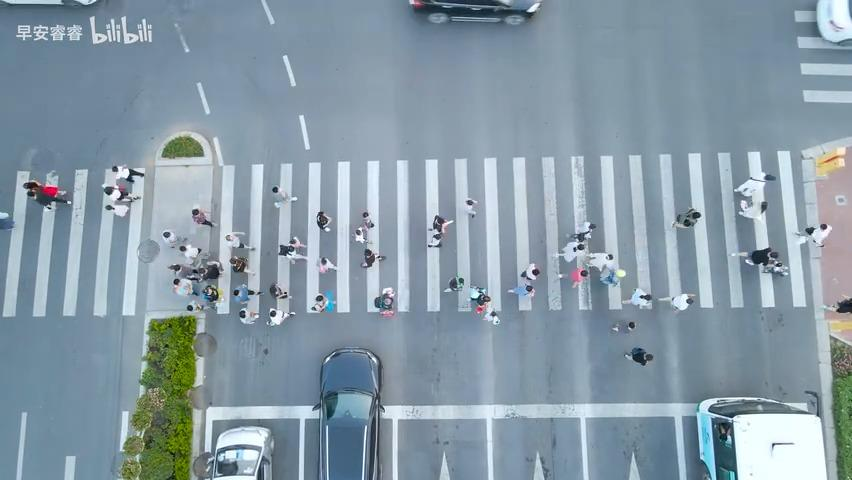Civilian: (733, 172, 776, 224), (22, 180, 71, 210), (469, 285, 500, 328), (729, 246, 780, 272), (96, 188, 131, 223), (593, 251, 623, 290), (733, 172, 775, 198), (272, 233, 309, 262), (793, 223, 832, 247), (557, 237, 588, 266), (427, 214, 453, 247), (352, 212, 377, 244), (737, 199, 768, 224), (234, 306, 261, 334), (606, 316, 641, 337), (168, 276, 196, 300), (103, 184, 140, 202), (671, 207, 701, 228), (374, 286, 395, 316), (621, 287, 651, 308), (181, 297, 206, 322), (200, 281, 227, 304), (271, 185, 297, 208), (111, 164, 144, 182), (164, 258, 190, 280), (624, 346, 653, 365), (266, 307, 294, 326), (197, 259, 224, 278), (225, 232, 255, 249), (191, 207, 216, 227), (360, 248, 385, 268), (228, 285, 254, 304), (821, 297, 851, 313), (227, 256, 252, 275), (162, 229, 187, 248), (575, 220, 596, 242), (670, 293, 695, 311), (507, 283, 535, 297), (519, 262, 539, 280), (316, 256, 337, 273), (570, 267, 587, 288), (315, 210, 331, 232), (310, 293, 328, 312), (718, 422, 732, 446), (269, 282, 288, 299), (443, 276, 463, 292), (464, 198, 478, 217)
